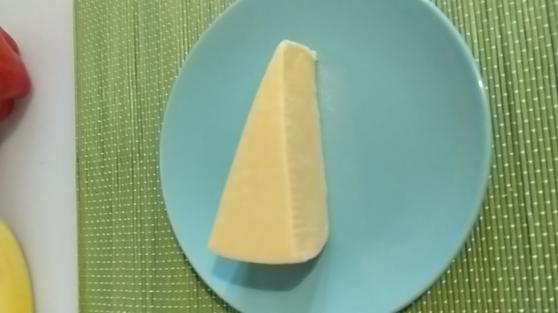cheese: (201, 35, 334, 267)
